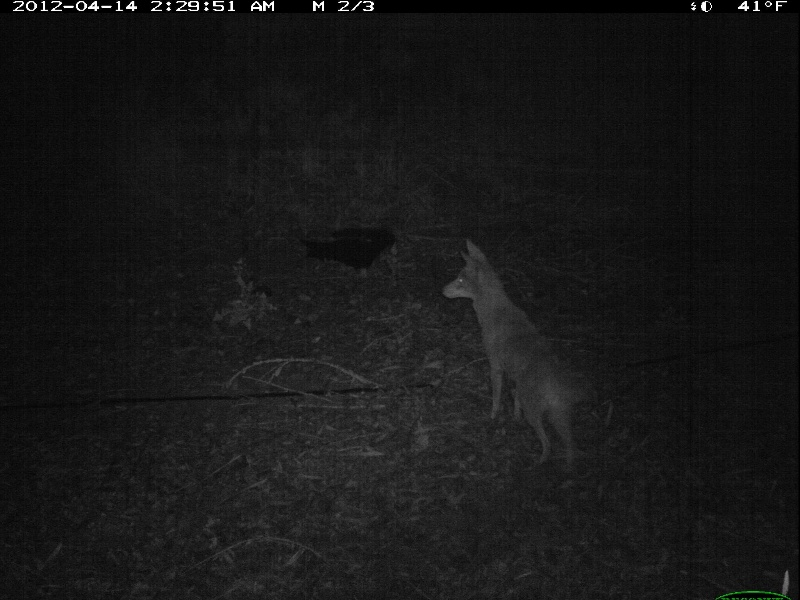coyote: (441, 235, 582, 466)
